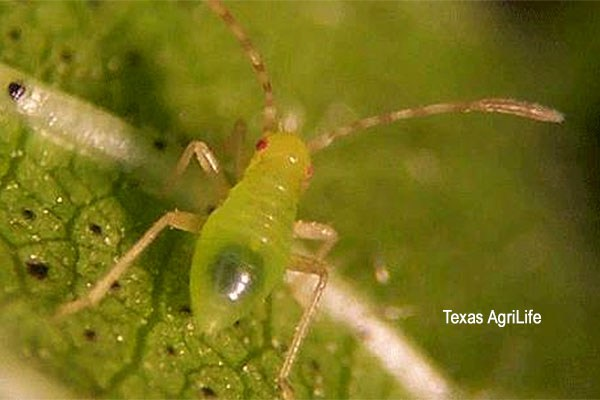Thrips: (139, 78, 417, 343)
